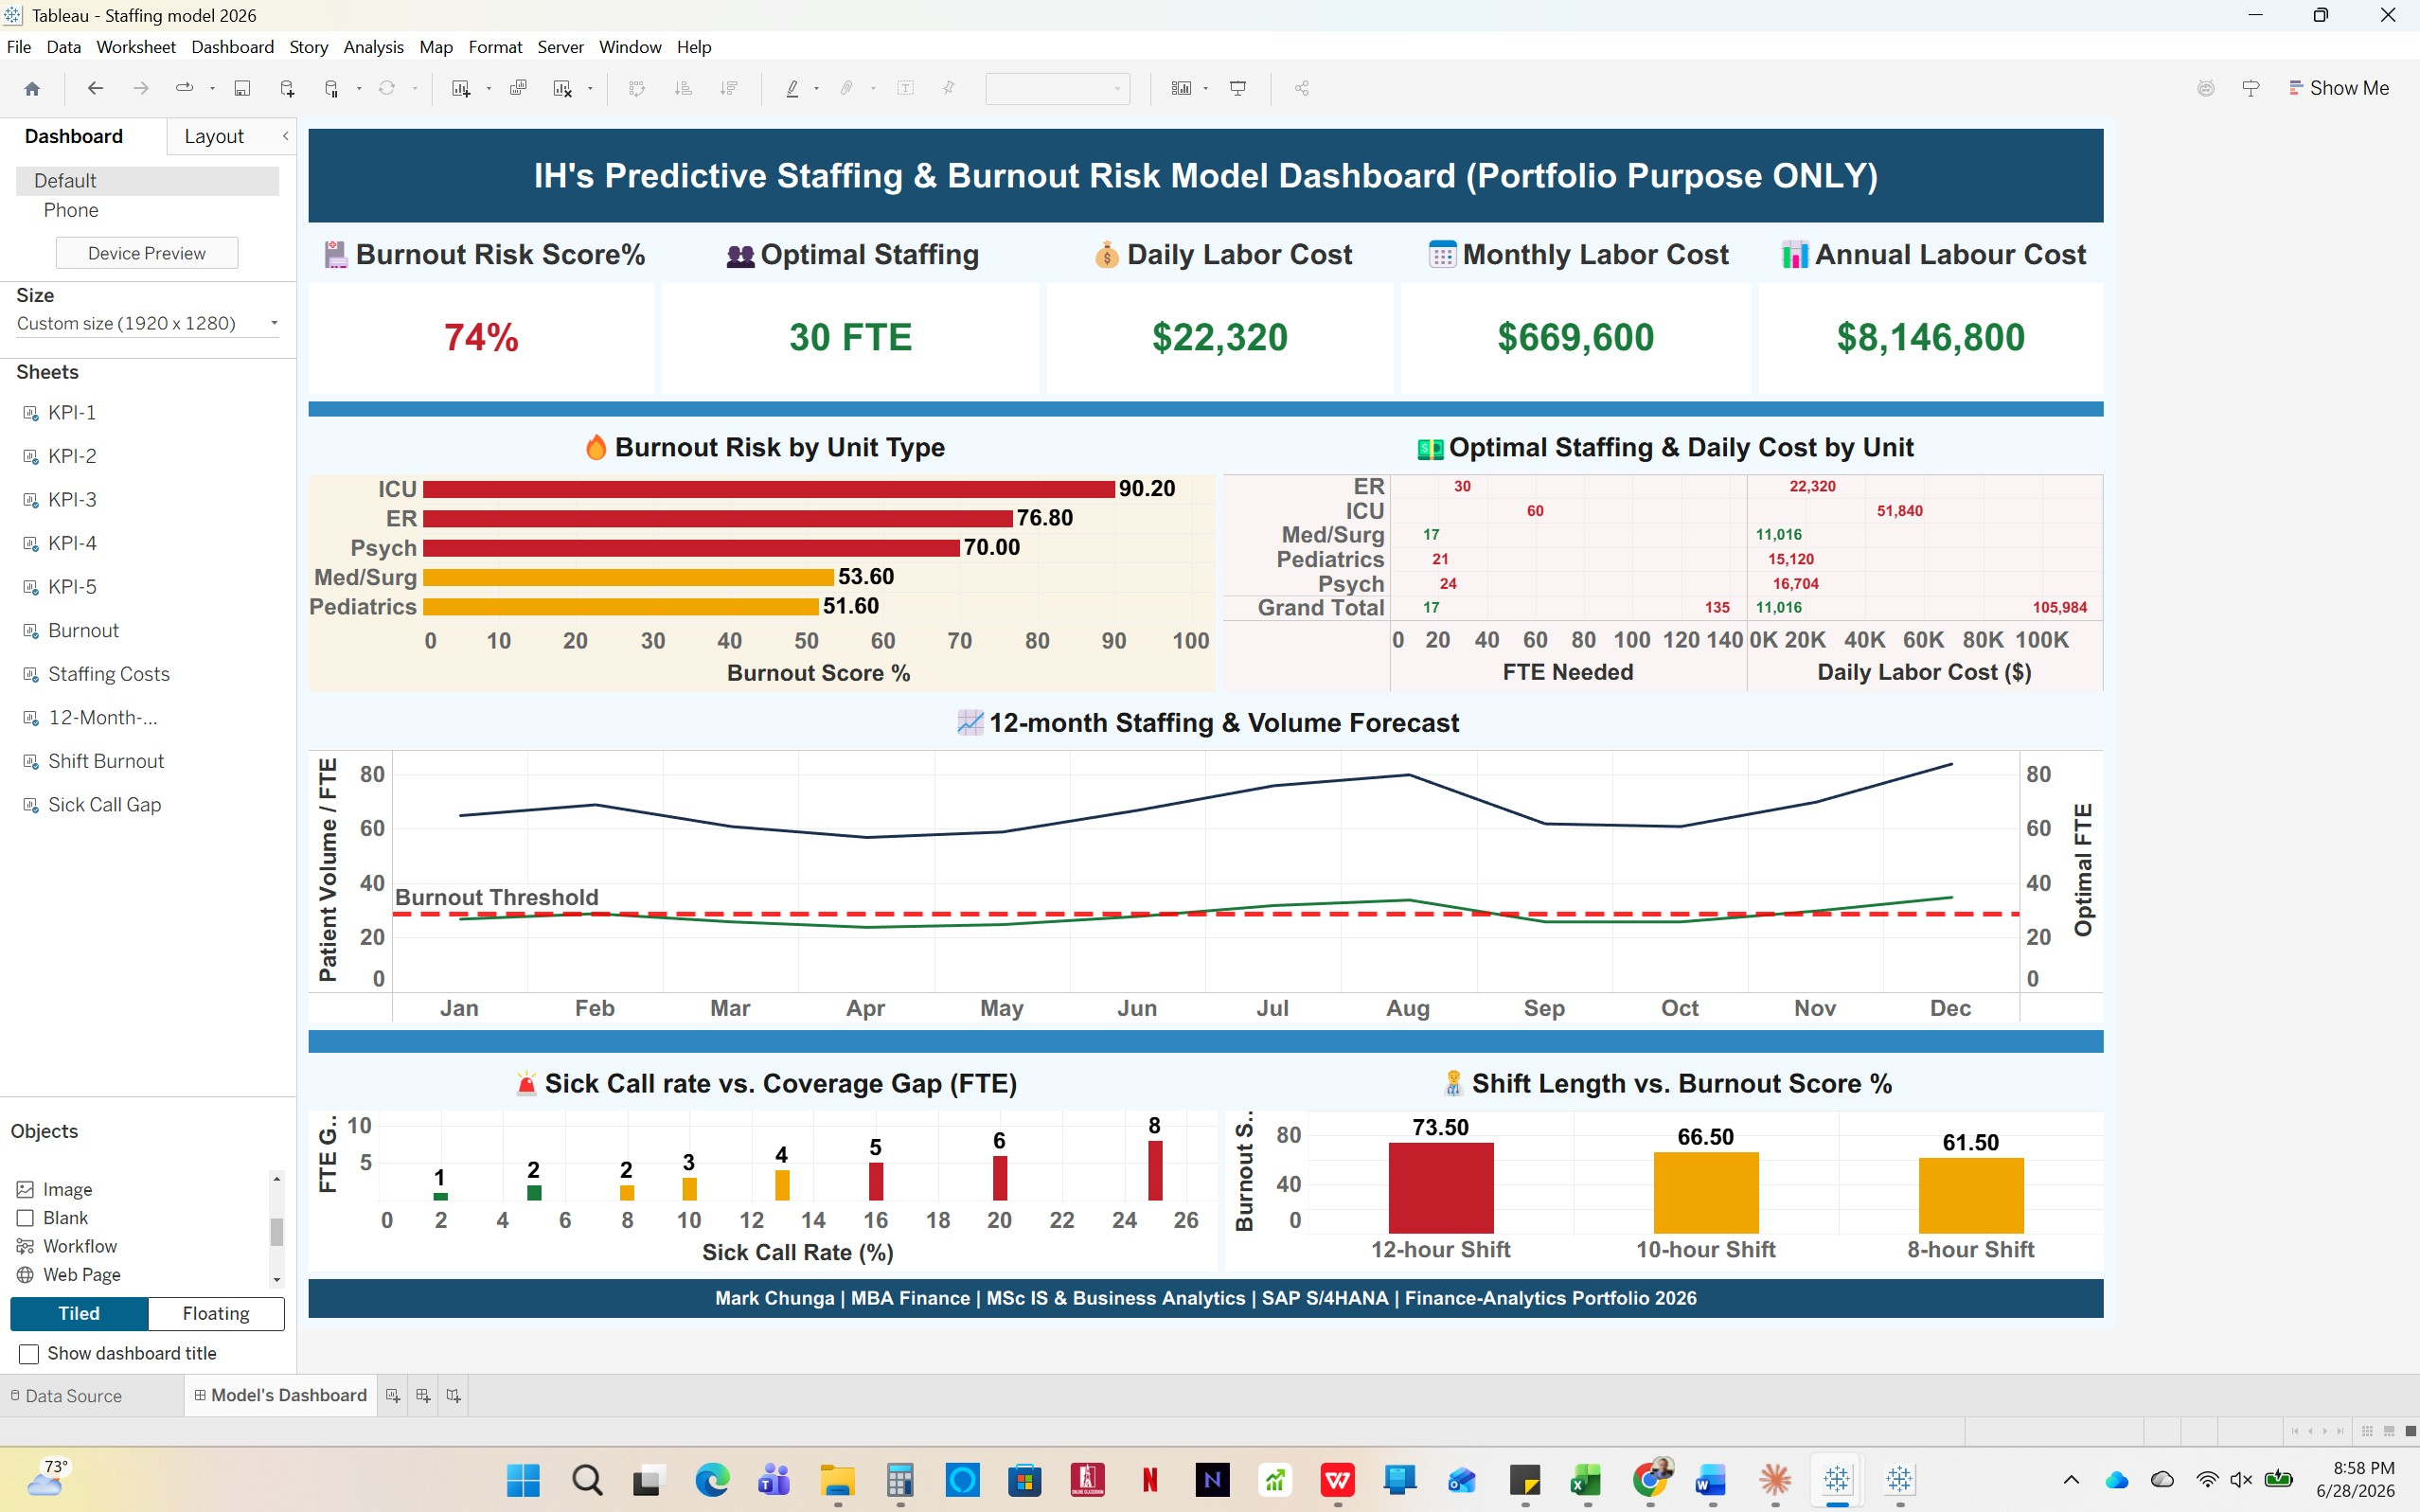

What the dashboard file says about the page in this screenshot:
{"tool":"tableau","page":{"name":"Model's Dashboard","canvas":[1920,1280],"ordinal":0},"visuals":[{"type":"text","box":[8,8,1904,107.3]},{"type":"worksheet","title":"KPI-1","mark":"Text","box":[8,115.3,373,180.7]},{"type":"worksheet","title":"KPI-2","mark":"Text","box":[381,115.3,407,180.7]},{"type":"worksheet","title":"KPI-3","mark":"Text","box":[788,115.3,374,180.7]},{"type":"worksheet","title":"KPI-4","mark":"Text","box":[1162,115.3,378,180.7]},{"type":"worksheet","title":"KPI-5","mark":"Text","box":[1540,115.3,372,180.7]},{"type":"blank","box":[8,296,1904,24]},{"type":"worksheet","title":"Burnout","mark":"Bar","rows":["Unit"],"cols":["Burnout_Score_Pct"],"box":[8,320,966,291]},{"type":"worksheet","title":"Staffing Costs","mark":"Text","rows":["Unit"],"cols":["FTE_Needed","Daily_Cost"],"box":[974,320,938,291]},{"type":"worksheet","title":"12-Month-Forecast","mark":"Line","rows":["Patient_Volume","Optimal_FTE"],"cols":["Month"],"box":[8,611,1904,349]},{"type":"blank","box":[8,960,1904,32]},{"type":"worksheet","title":"Sick Call Gap","mark":"Bar","rows":["FTE_Gap"],"cols":["Sick_Call_Rate_Pct"],"box":[8,992,968,231.4]},{"type":"worksheet","title":"Shift Burnout","mark":"Bar","rows":["Burnout_Score_Pct"],"cols":["Shift_Label"],"box":[976,992,936,231.4]},{"type":"text","box":[8,1223.4,1904,48.6]}]}

Visuals, with their boxes on the page's 1920x1280 design canvas (x1, y1, x2, y2). These are canvas units, not pixel positions in the 2420x1512 screenshot, which may show the page scaled, cropped or inside an application window:
text: detection(8, 8, 1912, 115)
"KPI-1" worksheet (Text marks): detection(8, 115, 381, 296)
"KPI-2" worksheet (Text marks): detection(381, 115, 788, 296)
"KPI-3" worksheet (Text marks): detection(788, 115, 1162, 296)
"KPI-4" worksheet (Text marks): detection(1162, 115, 1540, 296)
"KPI-5" worksheet (Text marks): detection(1540, 115, 1912, 296)
blank: detection(8, 296, 1912, 320)
"Burnout" worksheet (Bar marks): detection(8, 320, 974, 611)
"Staffing Costs" worksheet (Text marks): detection(974, 320, 1912, 611)
"12-Month-Forecast" worksheet (Line marks): detection(8, 611, 1912, 960)
blank: detection(8, 960, 1912, 992)
"Sick Call Gap" worksheet (Bar marks): detection(8, 992, 976, 1223)
"Shift Burnout" worksheet (Bar marks): detection(976, 992, 1912, 1223)
text: detection(8, 1223, 1912, 1272)
